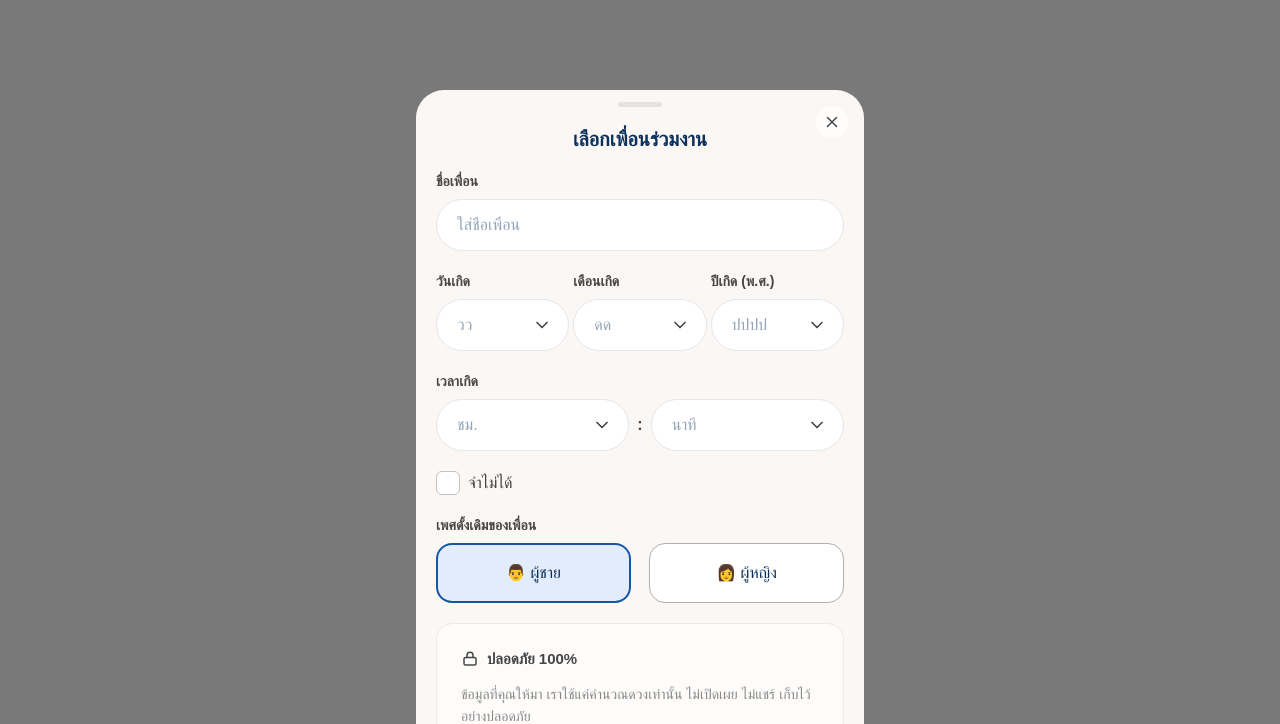
it: frame 720:25691 parity › N3/P1-10: วันที่ไม่มีจริง (31 ก.พ.) ถูกบล็อก บันทึกกดไม่ได้ + ขึ้น error; วันจริงเปิดใช้ได้
The image size is (1280, 724).
Type "ปาล์ม" into the field with test id "add-friend-name" at (640, 225), box [436,199,844,251]
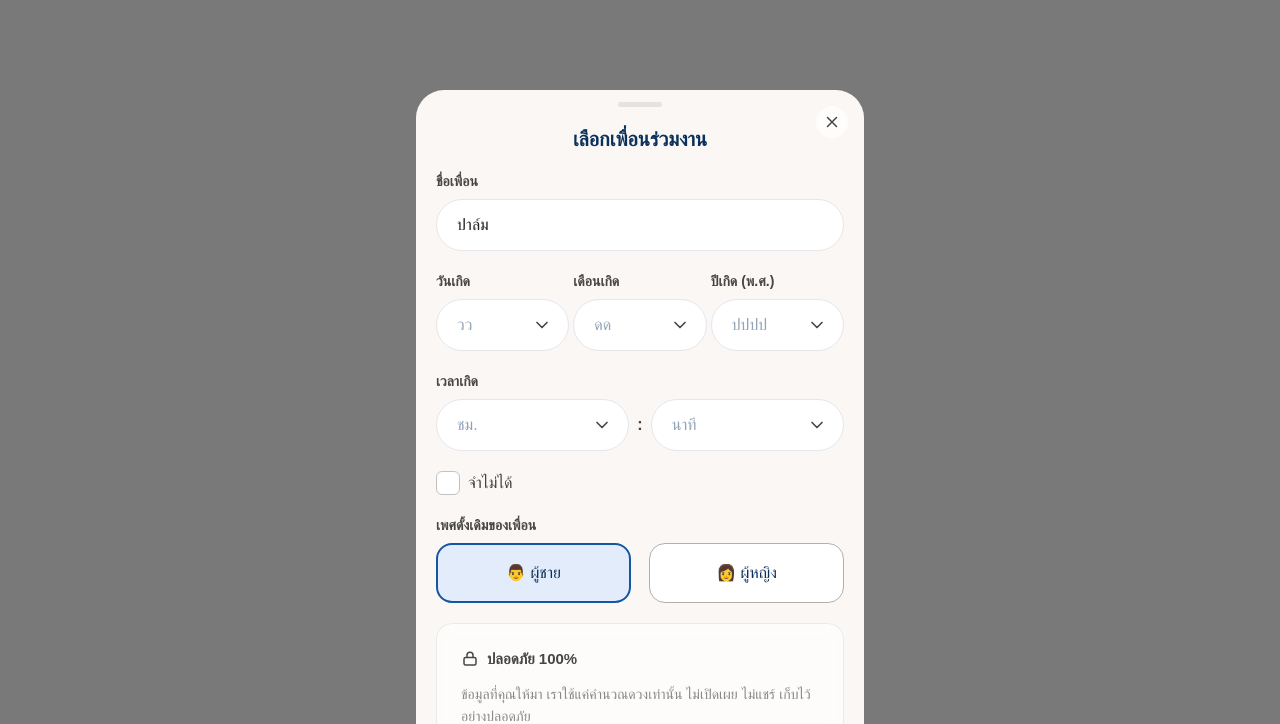
Select "2537" in the dropdown with test id "add-friend-year" at (777, 325), box [711,299,844,351]
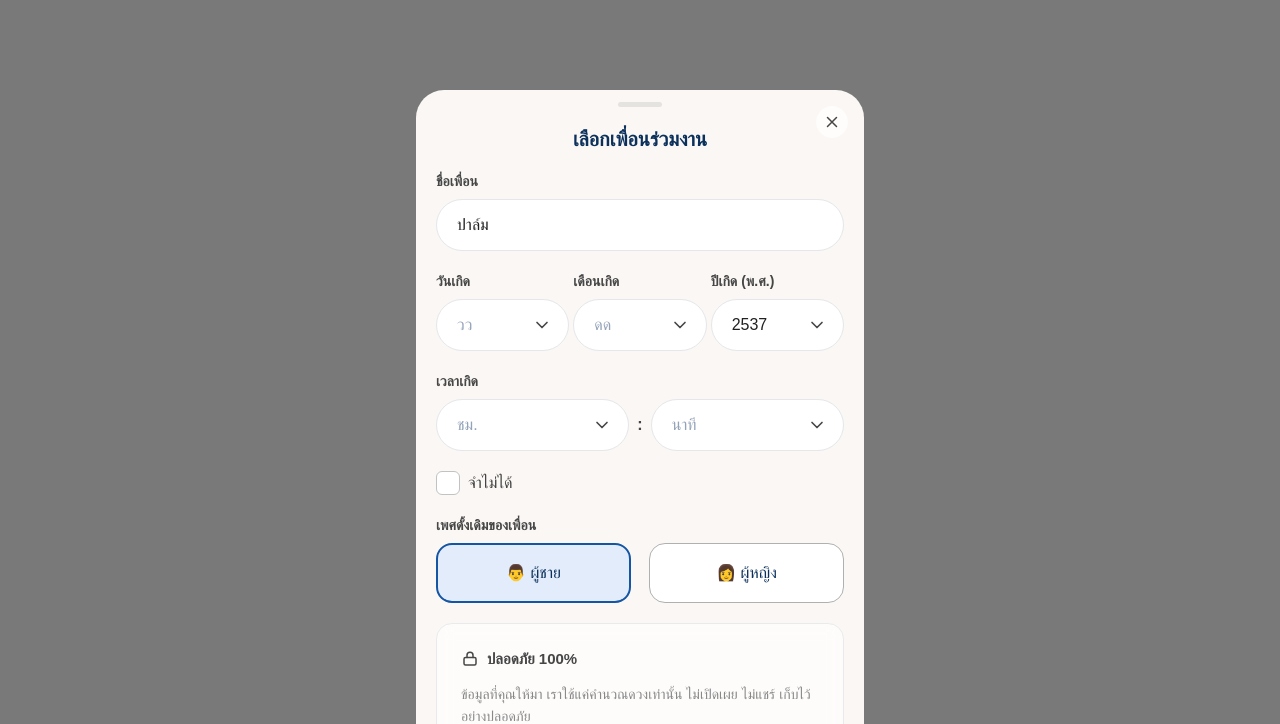
Select "กุมภาพันธ์" in the dropdown with test id "add-friend-month" at (640, 325), box [573,299,707,351]
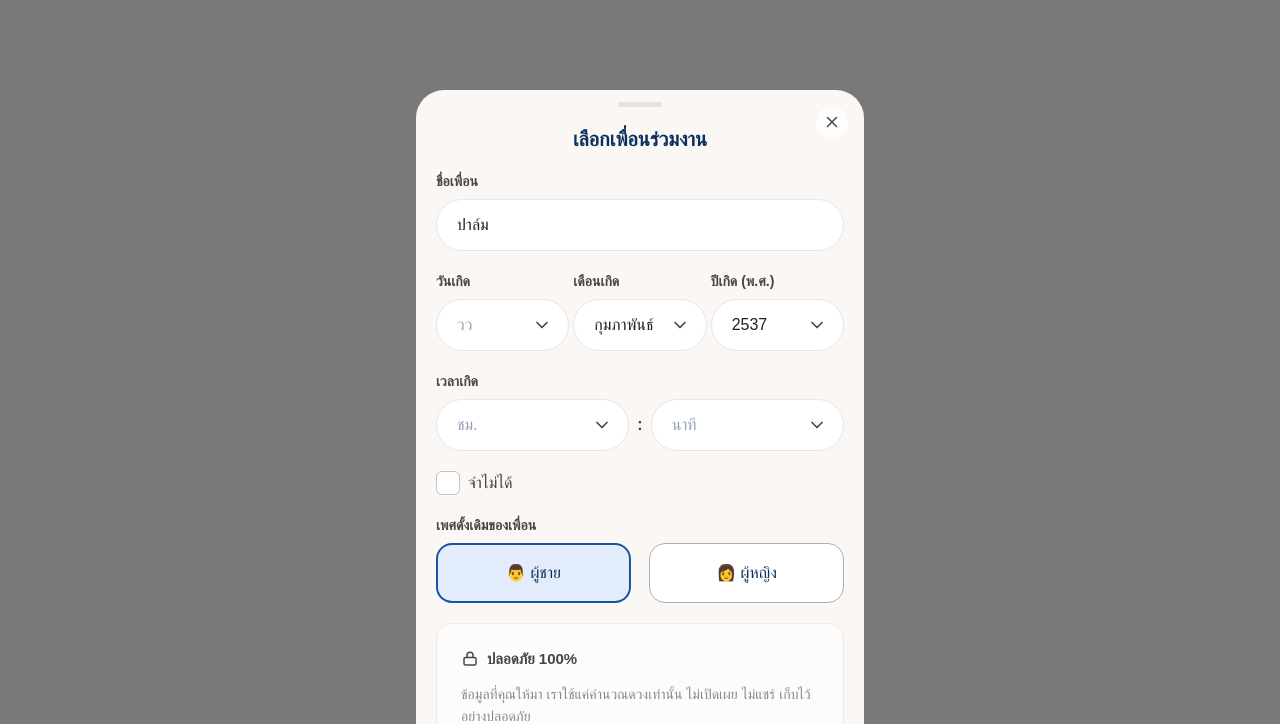
Select "31" in the dropdown with test id "add-friend-day" at (503, 325), box [436,299,569,351]
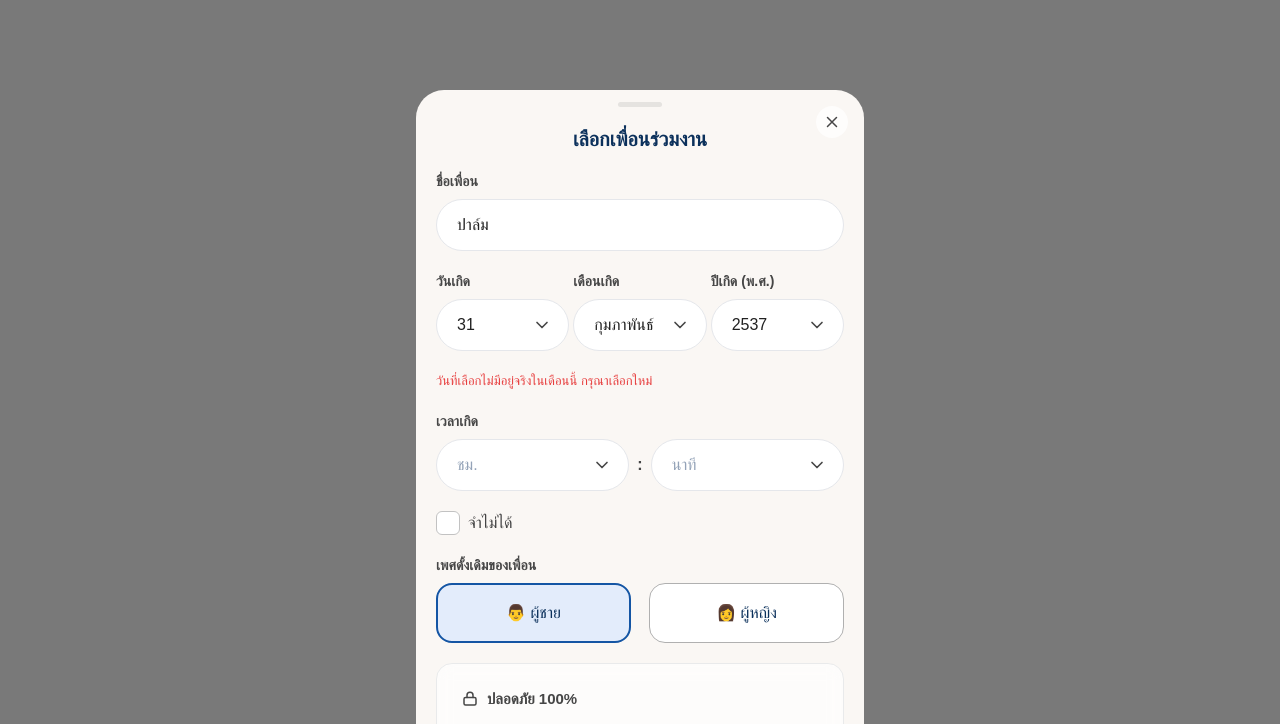
expect the message "วันที่เลือกไม่มีอยู่จริงในเดือนนี้ กรุณาเลือกใหม่" is shown: met, box [436,373,652,388]
Note: แก้เป็นวันที่มีจริง → error หาย, บันทึกกดได้
Select "28" in the dropdown with test id "add-friend-day" at (503, 325), box [436,299,569,351]
(page scrolled)
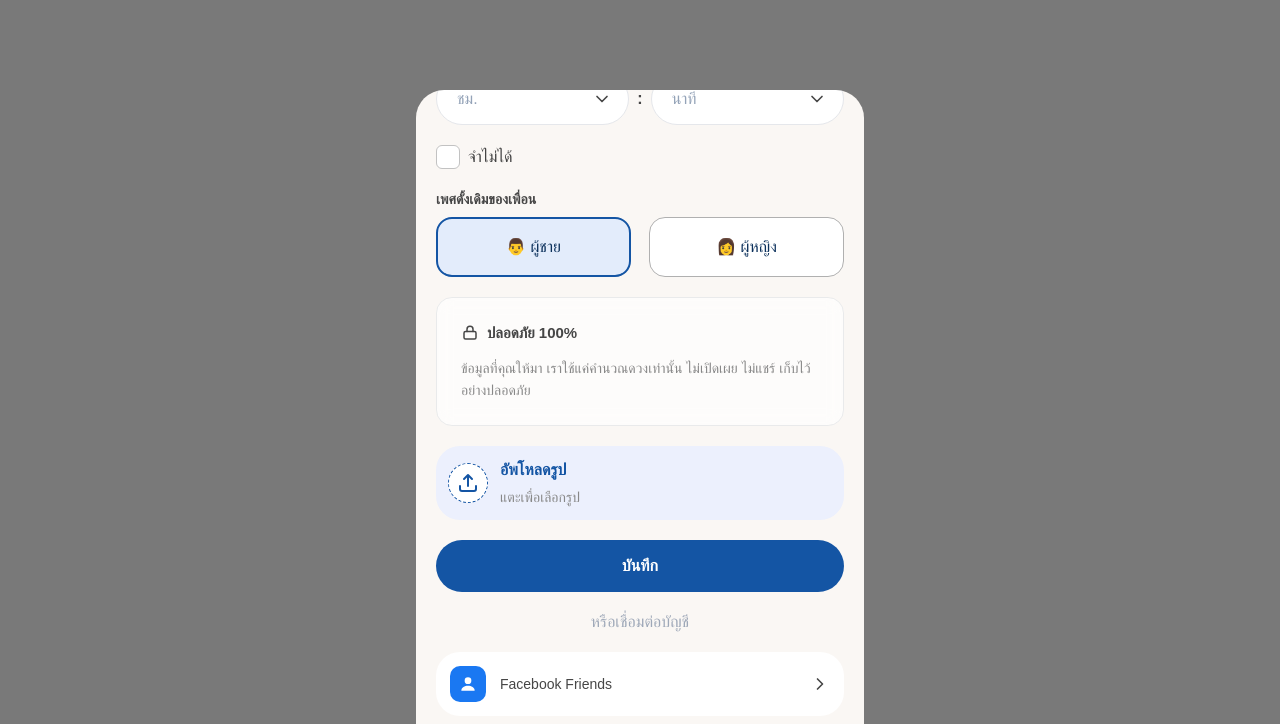
expect the message with test id "add-friend-date-error" is gone: met
expect the button with test id "add-friend-save" is enabled: met, box [436,540,844,592]
